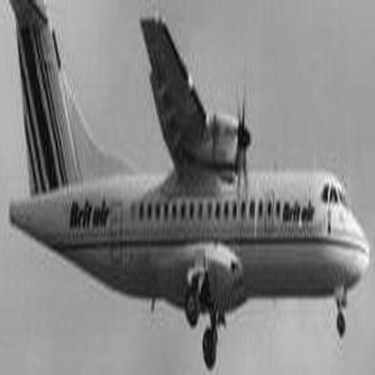airplane: (2, 1, 370, 372)
